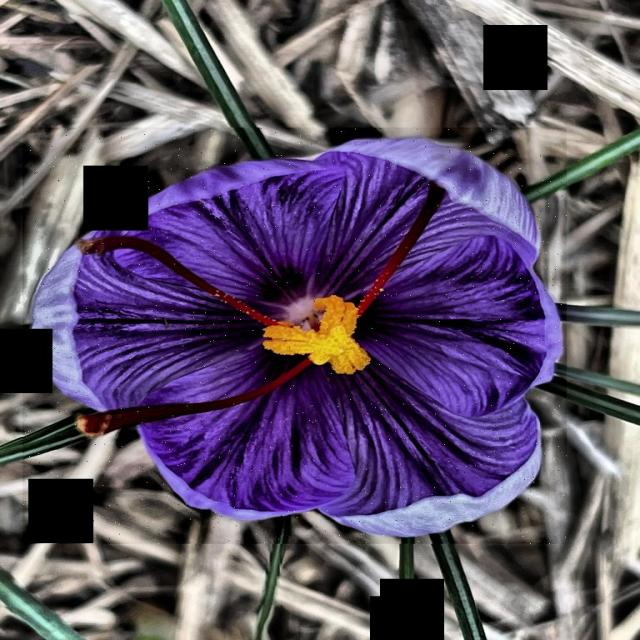Flower: (21, 127, 566, 544)
stigma: (69, 214, 319, 339), (48, 370, 346, 439), (357, 178, 453, 330)
